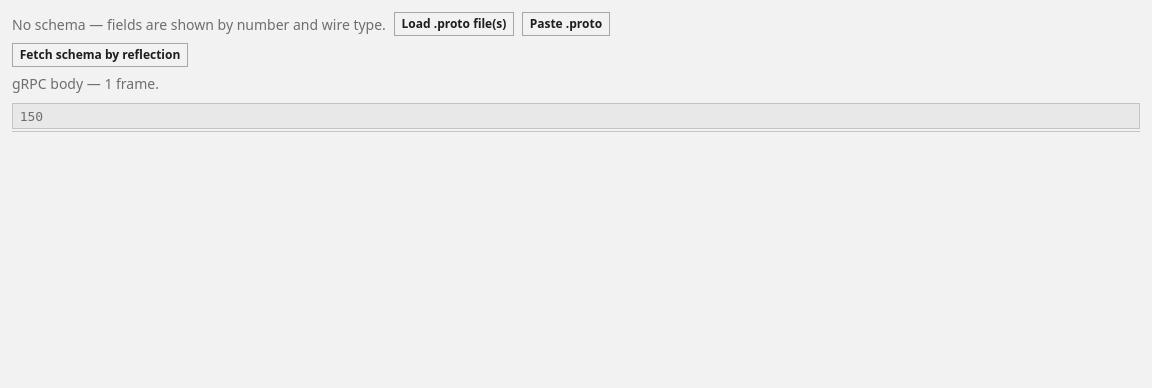
Test: reflect-decode on the Protobuf tab › discarding the reflected names goes back to the local decode
Click the button "Fetch schema by reflection" at (100,55), box [12, 43, 188, 67]
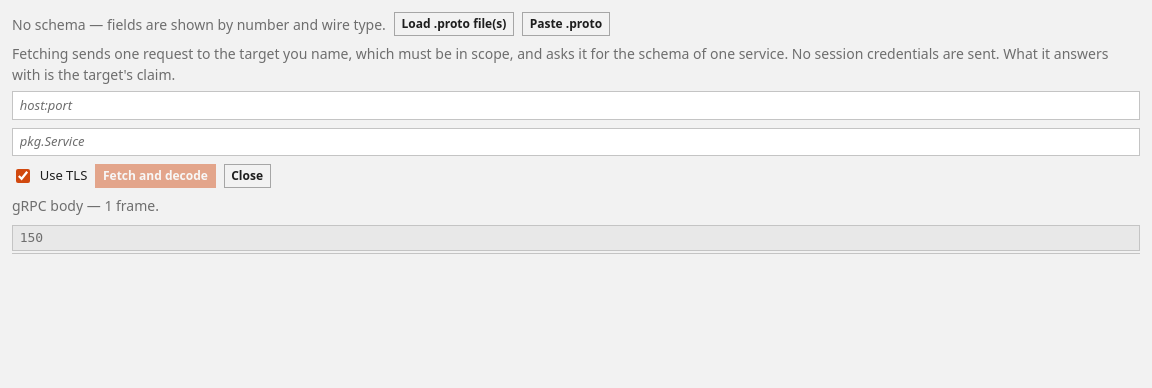
Type "api.test:443" into the field named "Reflection target (host:port)" at (576,106), box [12, 91, 1140, 120]
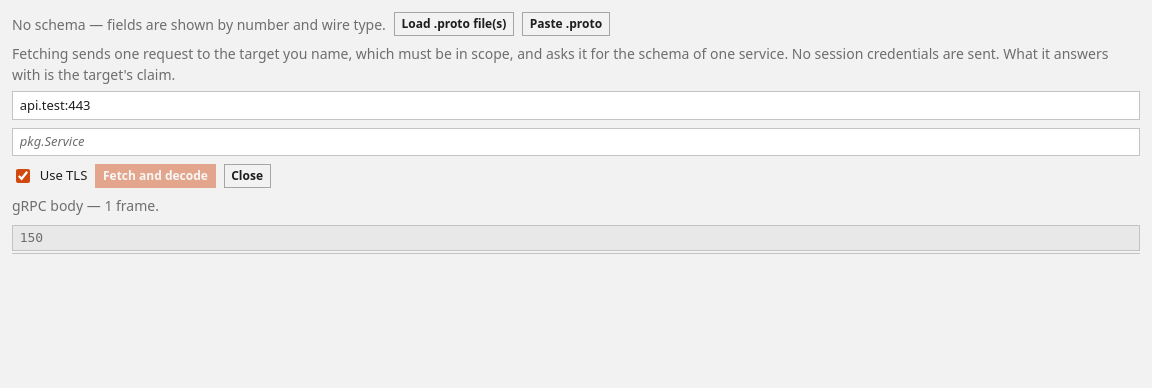
Type "acme.v1.Users" into the field named "gRPC service" at (576,142), box [12, 128, 1140, 156]
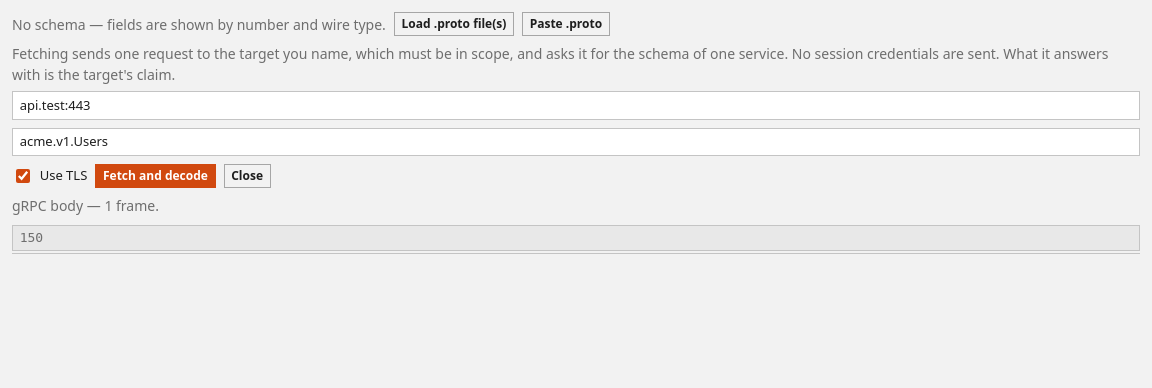
Click the button "Fetch and decode" at (155,176), box [95, 164, 216, 188]
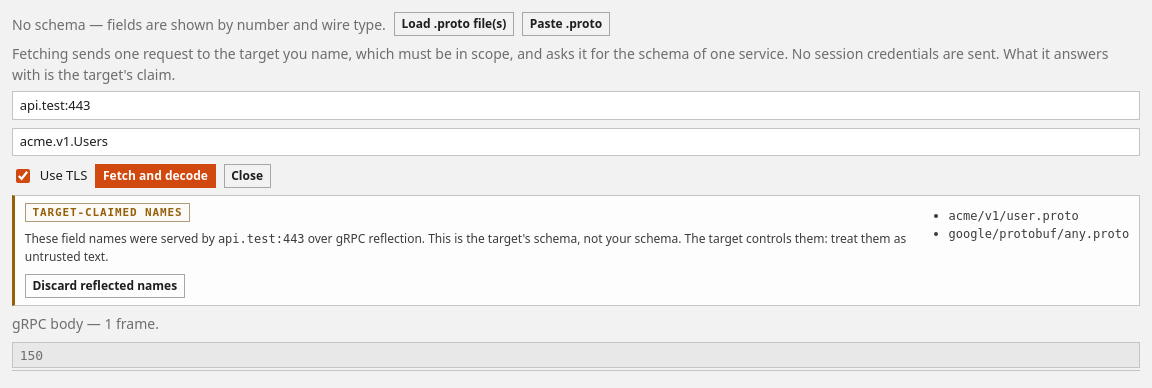
expect the element named "Schema provenance" is shown: met, box [12, 195, 1140, 306]
Click the button "Discard reflected names" at (105,286), box [25, 274, 185, 298]
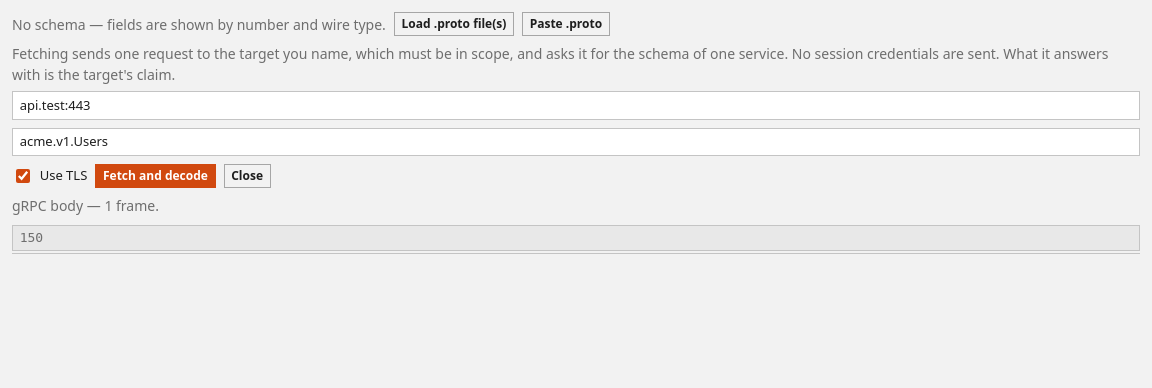
expect the text "user_id" is gone: met
